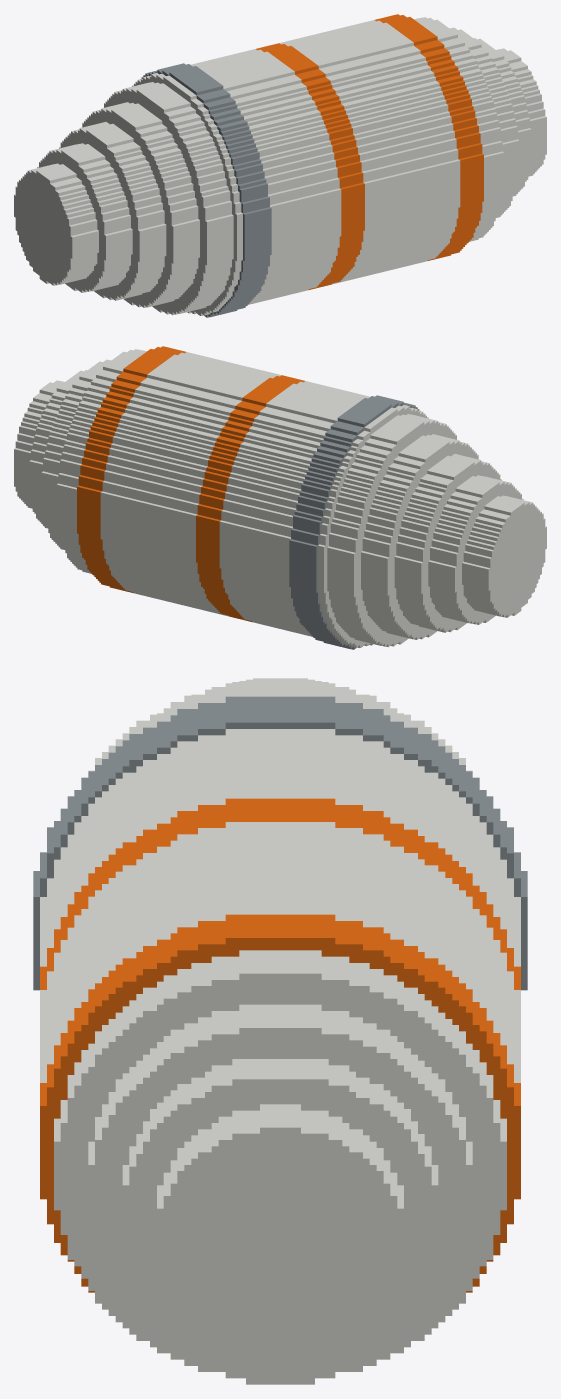
The model's file is cement_mixer_drum.glb.
3 renders of one model, top to bottom at view 1: azimuth 30°, elevation 25°; view 2: azimuth 150°, elevation 25°; view 3: azimuth 270°, elevation 25°, orthographic. The views are drawn at different scales.
Parts seen in each view (by area): view 1: body:compound; view 2: body:compound; view 3: body:compound.
Boxes of the visible parts, <box> form: body:compound: <box>14,14,546,317</box>; body:compound: <box>14,346,546,649</box>; body:compound: <box>33,678,527,1384</box>.
Bounding box in the file's own units: 4.97 × 2.25 × 2.25.
